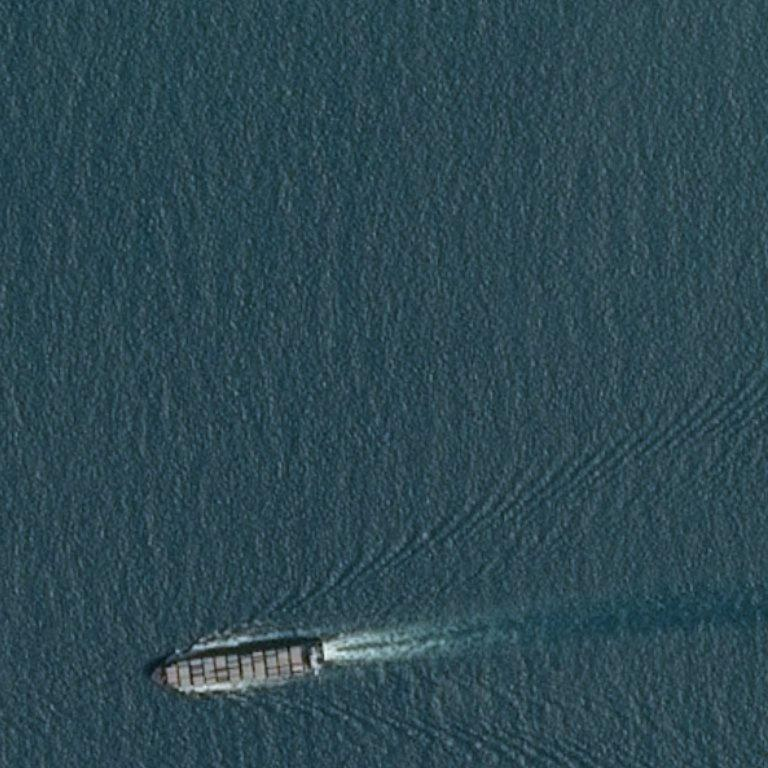ship: (134, 625, 336, 701), (149, 672, 156, 682), (316, 612, 323, 620), (304, 670, 311, 676)
